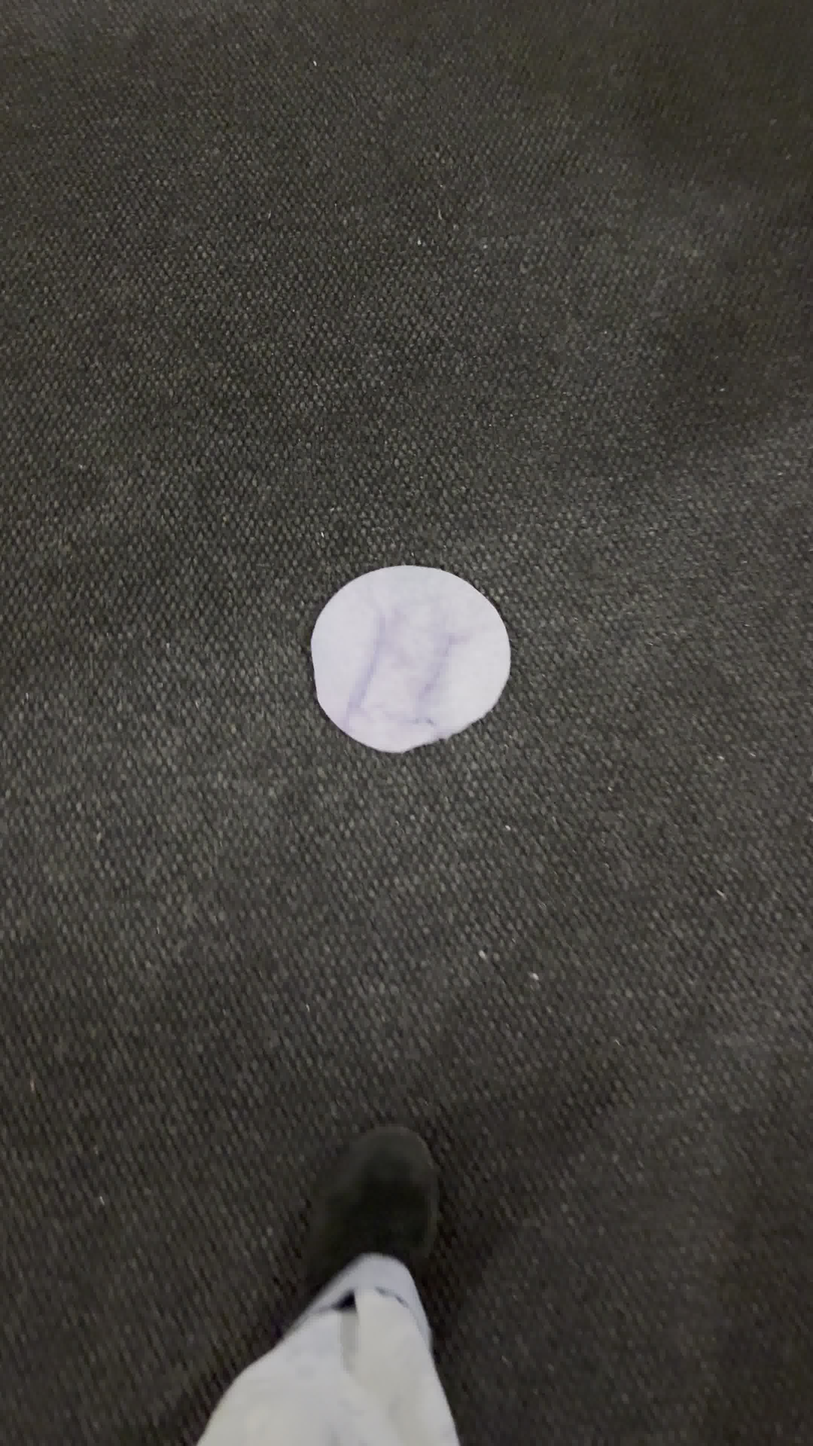Target: (309, 567, 510, 753)
